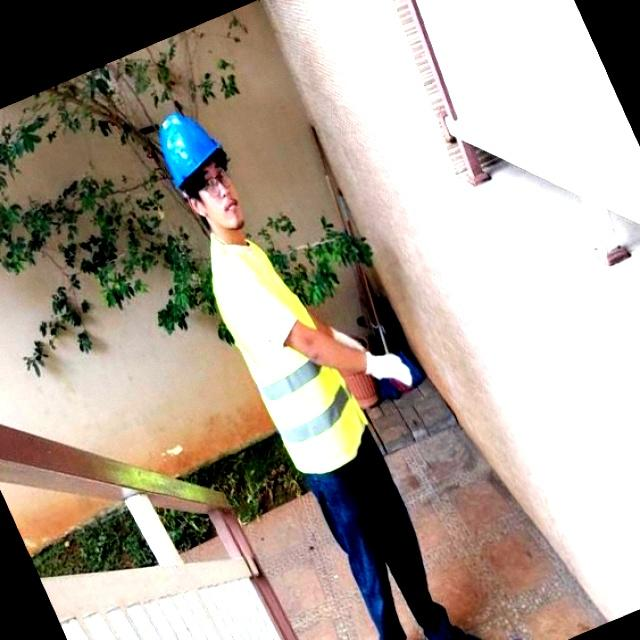Capacete: (159, 113, 220, 188)
Colete: (211, 235, 366, 472)
Pessoa: (159, 113, 473, 639)
